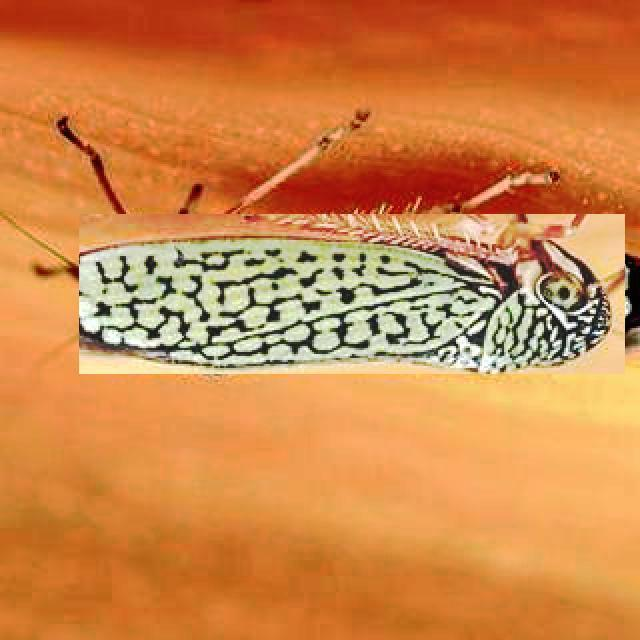green-leafhopper: (79, 214, 625, 374)
